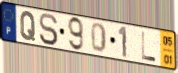0: (89, 22, 107, 55)
1: (118, 26, 129, 60)
9: (67, 16, 85, 53)
L: (140, 30, 158, 63)
Q: (19, 10, 37, 43)
S: (38, 13, 59, 47)
